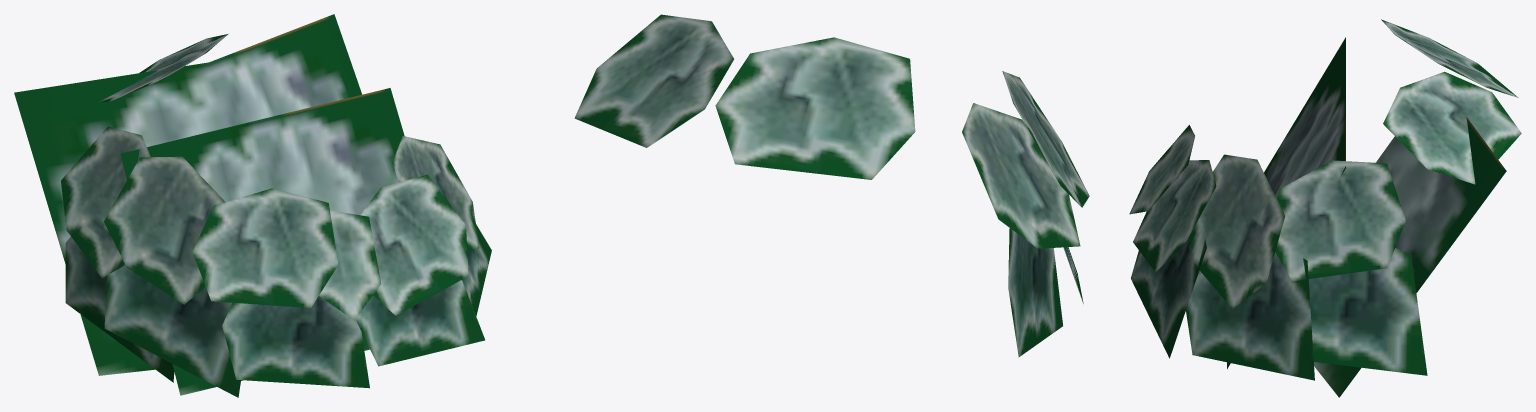
Rendered from bush-holly-snow.glb.
3 views of the same model, side by side, from view 1: azimuth 30°, elevation 25°; view 2: azimuth 150°, elevation 25°; view 3: azimuth 270°, elevation 25° (orthographic). The views are drawn at different scales.
Visible parts, largest first — view 1: D2_017__mPltBushHollyLeafSnow; view 2: D2_017__mPltBushHollyLeafSnow; view 3: D2_017__mPltBushHollyLeafSnow.
Part boxes in pixels (bbox=[...]): D2_017__mPltBushHollyLeafSnow: bbox=[14, 14, 491, 397]; D2_017__mPltBushHollyLeafSnow: bbox=[574, 14, 1089, 357]; D2_017__mPltBushHollyLeafSnow: bbox=[1129, 19, 1521, 397].
Bounding box in the file's own units: 1.21 × 0.7918 × 1.05.
1 material, 1 textured.
